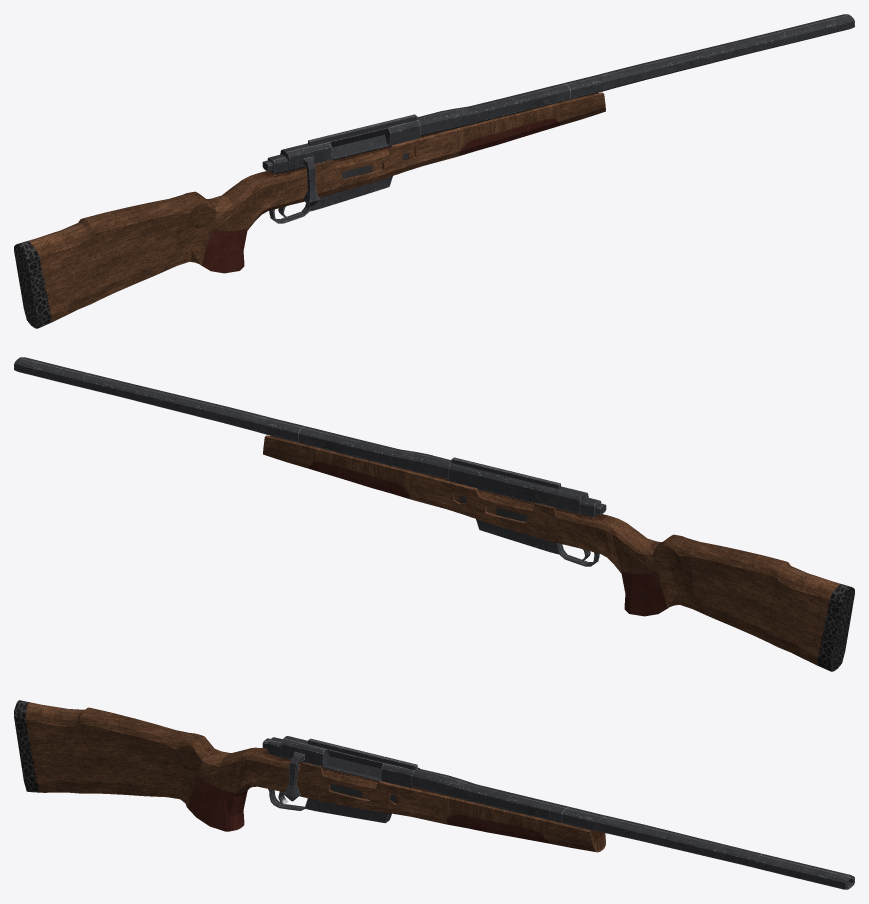
File: Gun_Shot_Animation.fbx
The picture shows the model from 3 angles, top to bottom: view 1: azimuth 30°, elevation 25°; view 2: azimuth 150°, elevation 25°; view 3: azimuth 330°, elevation 25°; orthographic projection.
Visible parts, largest first — view 1: defaultMaterial.005, defaultMaterial.006, defaultMaterial.003, defaultMaterial.004, defaultMaterial.001; view 2: defaultMaterial.005, defaultMaterial.006, defaultMaterial.003, defaultMaterial.004, defaultMaterial.001; view 3: defaultMaterial.005, defaultMaterial.006, defaultMaterial.003, defaultMaterial.004, defaultMaterial.001, defaultMaterial.
Boxes of the visible parts, left/top/right/bottom form: defaultMaterial.005: left=14, top=92, right=605, bottom=328; defaultMaterial.006: left=417, top=14, right=854, bottom=135; defaultMaterial.003: left=262, top=120, right=420, bottom=174; defaultMaterial.004: left=269, top=176, right=392, bottom=223; defaultMaterial.001: left=308, top=114, right=417, bottom=145; defaultMaterial.005: left=263, top=435, right=854, bottom=671; defaultMaterial.006: left=14, top=357, right=451, bottom=478; defaultMaterial.003: left=448, top=463, right=606, bottom=517; defaultMaterial.004: left=476, top=519, right=599, bottom=566; defaultMaterial.001: left=451, top=457, right=560, bottom=488; defaultMaterial.005: left=14, top=700, right=605, bottom=852; defaultMaterial.006: left=412, top=768, right=854, bottom=889; defaultMaterial.003: left=262, top=736, right=419, bottom=787; defaultMaterial.004: left=268, top=789, right=391, bottom=823; defaultMaterial.001: left=308, top=738, right=417, bottom=770; defaultMaterial: left=284, top=751, right=304, bottom=801.
Bounding box in the file's own units: 1177 × 160 × 48.88.
